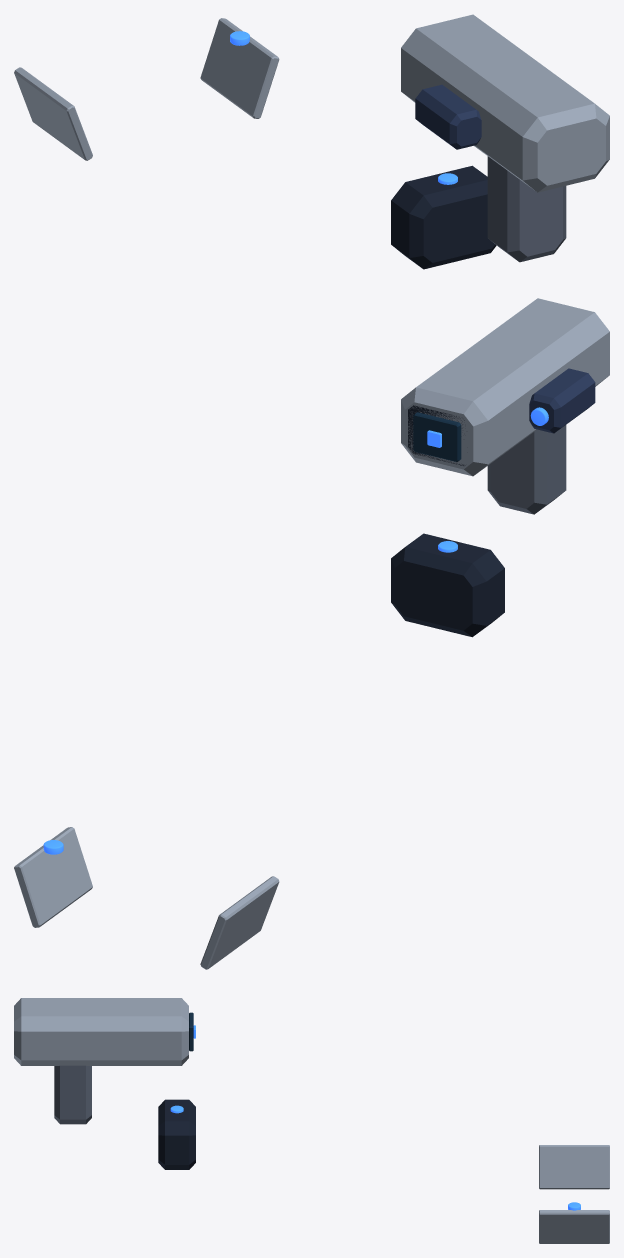
Rendered from tower_lance_range_s5.glb.
3 views of the same model, one above another, from view 1: azimuth 30°, elevation 25°; view 2: azimuth 150°, elevation 25°; view 3: azimuth 270°, elevation 25° (orthographic). The views are drawn at different scales.
Visible parts, largest first — view 1: lance_optic_long, lance_optic_shade_deep, lance_optic_riser, lance_stab_fin_l, lance_stab_fin_r, lance_rangefinder; view 2: lance_optic_long, lance_optic_shade_deep, lance_optic_riser, lance_stab_fin_l, lance_stab_fin_r, lance_rangefinder, lance_optic_long_lens; view 3: lance_optic_long, lance_stab_fin_r, lance_optic_shade_deep, lance_stab_fin_l, lance_optic_riser.
Part boxes in pixels (x1,y1,x2,y2): lance_optic_long: (401,14,609,192); lance_optic_shade_deep: (391,165,496,269); lance_optic_riser: (487,156,566,262); lance_stab_fin_l: (200,18,279,118); lance_stab_fin_r: (14,67,92,160); lance_rangefinder: (415,84,481,149); lance_optic_long: (401,298,609,476); lance_optic_shade_deep: (391,533,504,637); lance_optic_riser: (487,425,566,514); lance_stab_fin_l: (14,827,92,927); lance_stab_fin_r: (200,876,279,969); lance_rangefinder: (529,368,595,433); lance_optic_long_lens: (413,412,461,461); lance_optic_long: (14,998,188,1065); lance_stab_fin_r: (539,1145,609,1189); lance_optic_shade_deep: (158,1099,195,1169); lance_stab_fin_l: (539,1210,609,1243); lance_optic_riser: (54,1065,91,1124).
Size of the model in its own units: 0.6857 by 0.9763 by 2.52.
